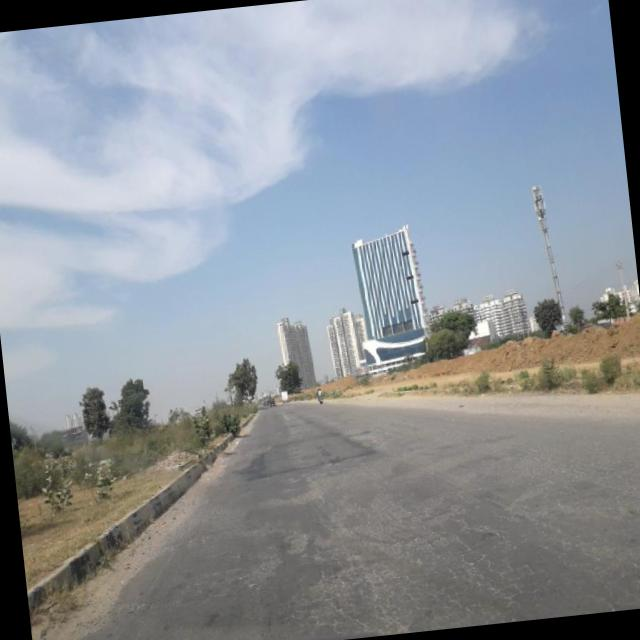crack: (229, 421, 640, 637)
pothole: (274, 522, 316, 562)
